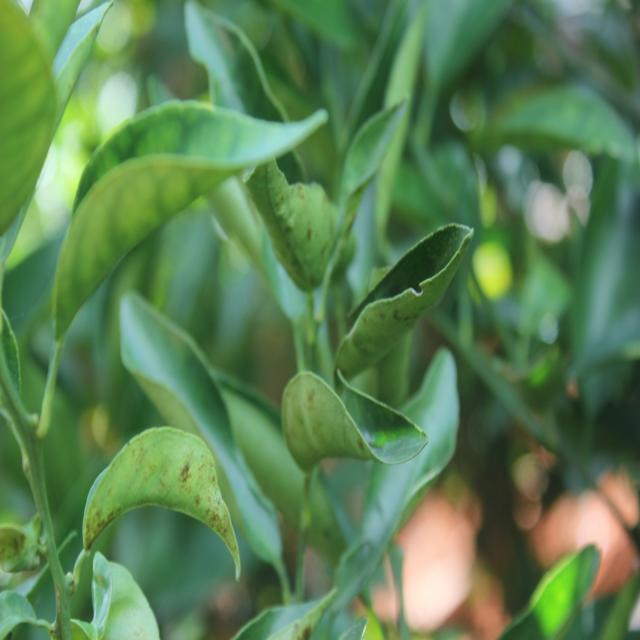melanose: (68, 422, 261, 572), (348, 216, 472, 371), (272, 378, 416, 492), (246, 143, 340, 299), (197, 579, 341, 640), (0, 492, 56, 600)
